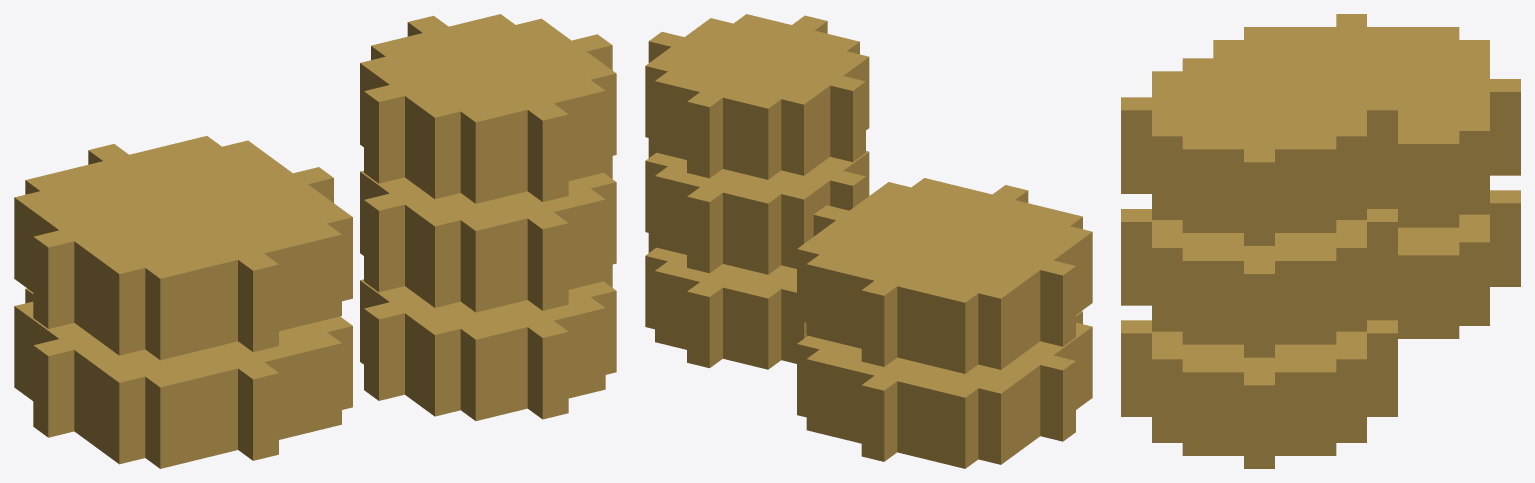
Rendered from finance-03.glb.
3 views of the same model, side by side, from view 1: azimuth 30°, elevation 25°; view 2: azimuth 150°, elevation 25°; view 3: azimuth 270°, elevation 25° (orthographic). The views are drawn at different scales.
Visible parts, largest first — view 1: Coin stack; view 2: Coin stack; view 3: Coin stack.
Boxes of the visible parts, left/top/right/bottom form: Coin stack: left=14, top=14, right=616, bottom=468; Coin stack: left=645, top=14, right=1092, bottom=468; Coin stack: left=1121, top=14, right=1520, bottom=468.
Size of the model in its own units: 1.6 by 0.88 by 1.04.
